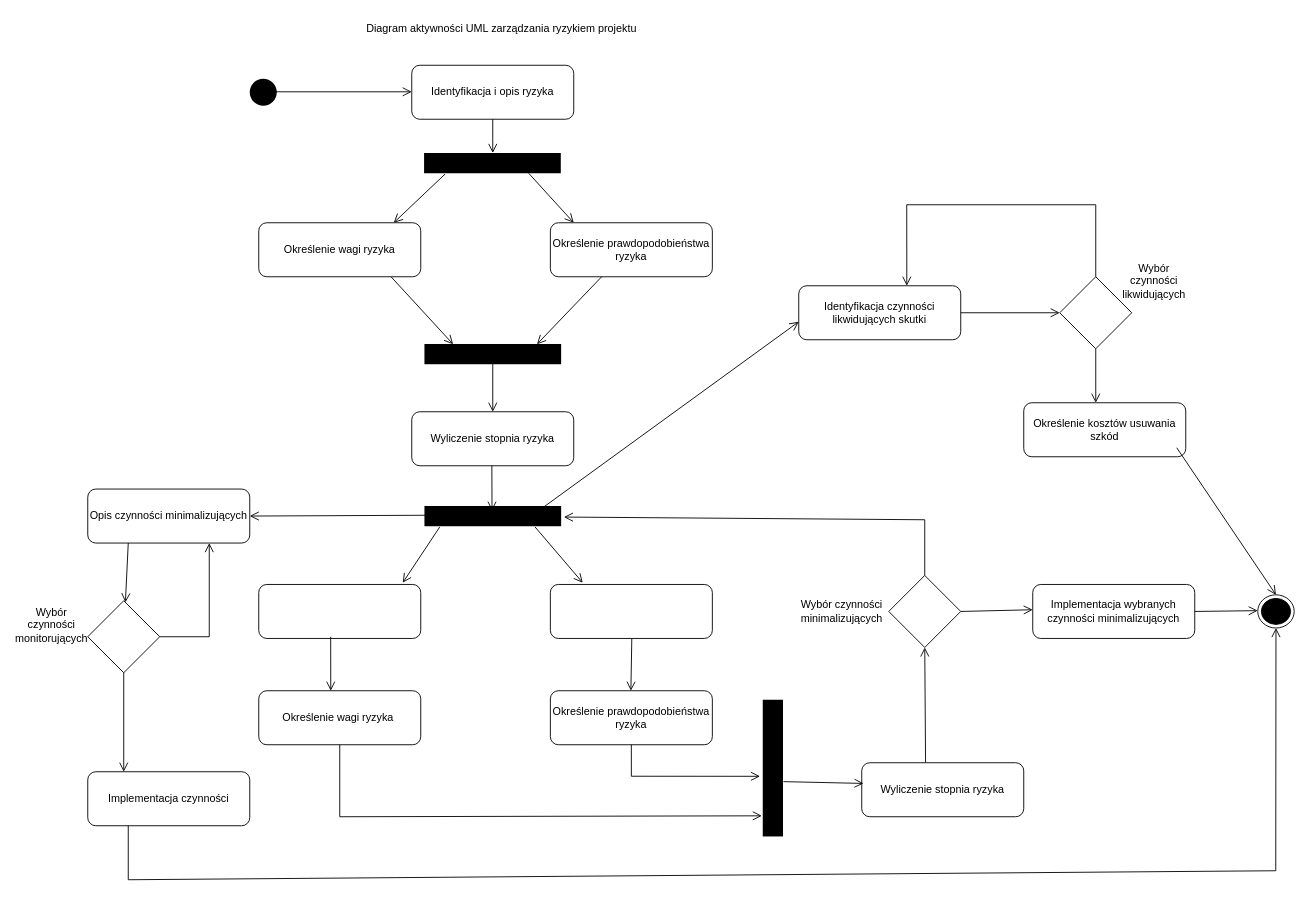
The diagram is 1310 pixels wide and 905 high, and some of its shapes have lost their labels. The shapes that lost their labels are listed below. From the top down, each one's centre as x and y in pixels, then its label:
the point at 339,611: Czynności minimalizujące wagę ryzyka
the point at 630,611: Czynności minimalizujące prawdopodobieństwo ryzyka
